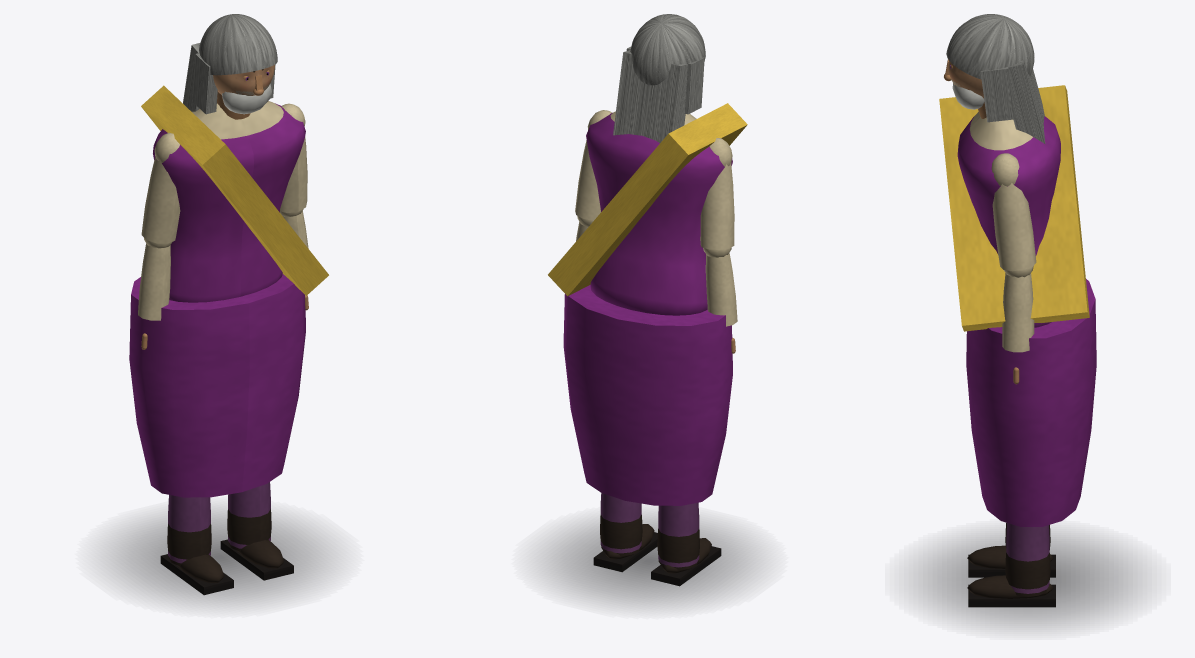
The model's file is npc_velcro.glb.
3 views of the same model, side by side, from view 1: azimuth 30°, elevation 25°; view 2: azimuth 150°, elevation 25°; view 3: azimuth 270°, elevation 25° (orthographic). The views are drawn at different scales.
Parts seen in each view (by area): view 1: object 7, chest, object 12, head, shinL, shinR, armL, foreL, armR; view 2: object 7, chest, object 12, head, shinL, shinR, armL, foreL, armR; view 3: chest, object 7, object 12, head, shinR, armR, foreR, shinL.
Part boxes in pixels (x1=…): object 7: x1=129, y1=274, x2=305, y2=497; chest: x1=141, y1=85, x2=328, y2=302; object 12: x1=105, y1=509, x2=334, y2=605; head: x1=183, y1=14, x2=277, y2=114; shinL: x1=160, y1=495, x2=233, y2=595; shinR: x1=220, y1=482, x2=293, y2=580; armL: x1=141, y1=132, x2=180, y2=243; foreL: x1=138, y1=238, x2=172, y2=349; armR: x1=280, y1=103, x2=307, y2=212; object 7: x1=563, y1=285, x2=732, y2=505; chest: x1=548, y1=103, x2=747, y2=315; object 12: x1=539, y1=514, x2=760, y2=606; head: x1=613, y1=14, x2=705, y2=142; shinL: x1=651, y1=502, x2=721, y2=586; shinR: x1=593, y1=493, x2=657, y2=571; armL: x1=700, y1=138, x2=734, y2=249; foreL: x1=703, y1=247, x2=737, y2=353; armR: x1=575, y1=110, x2=611, y2=220; chest: x1=939, y1=85, x2=1089, y2=331; object 7: x1=966, y1=279, x2=1096, y2=526; object 12: x1=913, y1=531, x2=1142, y2=627; head: x1=944, y1=14, x2=1045, y2=143; shinR: x1=967, y1=523, x2=1055, y2=607; armR: x1=991, y1=153, x2=1036, y2=271; foreR: x1=1002, y1=266, x2=1034, y2=384; shinL: x1=967, y1=522, x2=1055, y2=577.
Size of the model in its own units: 0.868 by 1.78 by 0.868.
7 materials, 6 textured.
